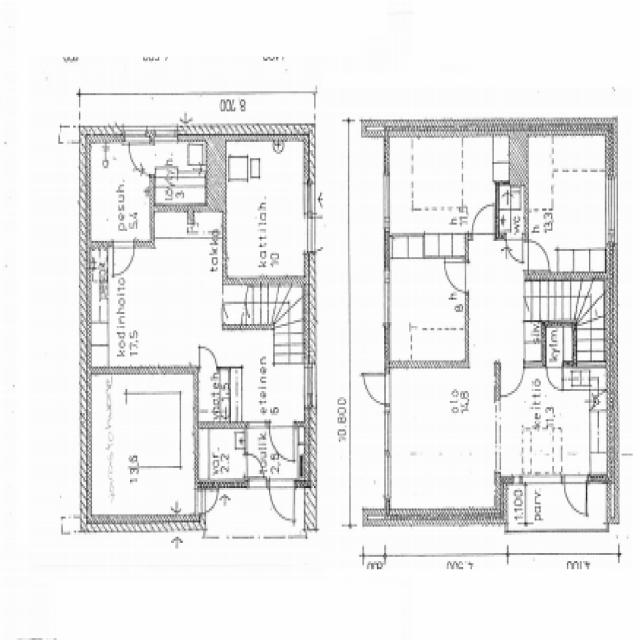door: (304, 218, 344, 256), (270, 479, 295, 523), (270, 420, 294, 462), (564, 476, 587, 515), (127, 144, 155, 176), (361, 374, 389, 406), (501, 361, 524, 398), (442, 262, 468, 294), (472, 202, 495, 237), (524, 240, 550, 270), (113, 241, 134, 276), (194, 491, 223, 514), (200, 342, 218, 370), (245, 455, 265, 478), (546, 360, 562, 388), (506, 233, 522, 260)
